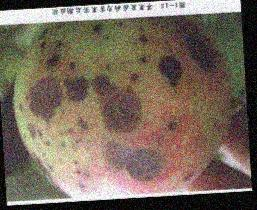rotten apple: (13, 20, 246, 187)
